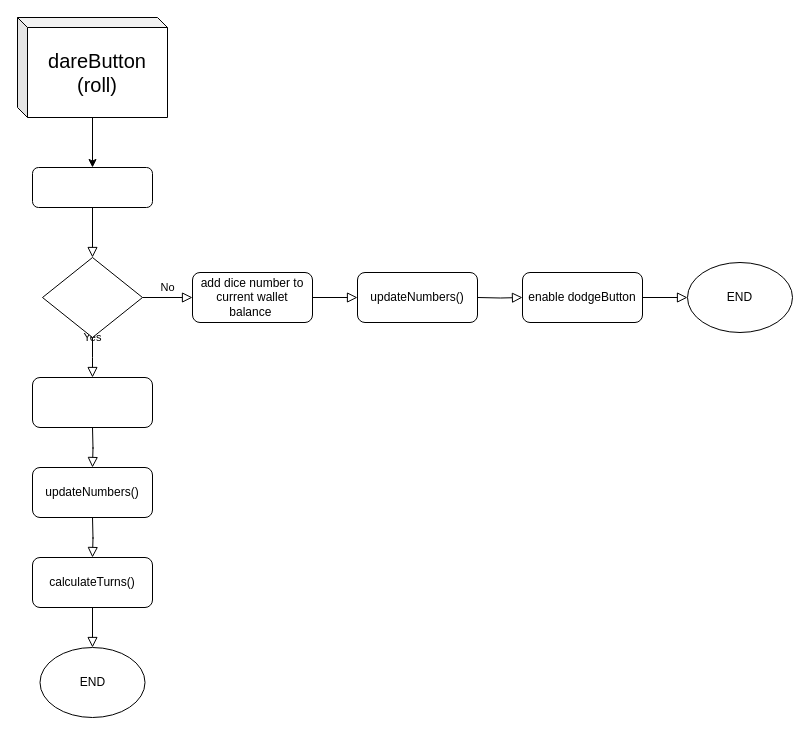
Image size: 810x735. Some labels were removed from this diagram. Here are the shapes that lost their labels. From the top down, the centre of each, then its label:
the point at 92,187: rollDice()
the point at 92,297: is it 1?
the point at 92,402: change walletBalance to 0
